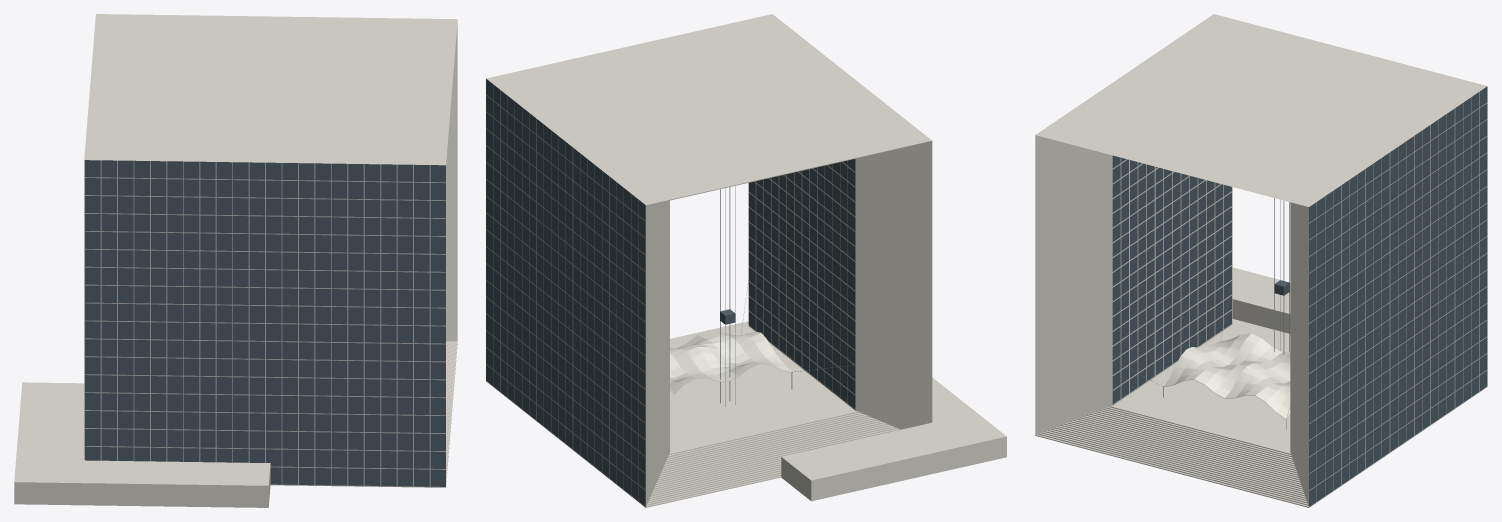
Rendered from grande-arche-far.glb.
3 views of the same model, side by side, from view 1: azimuth 30°, elevation 25°; view 2: azimuth 150°, elevation 25°; view 3: azimuth 270°, elevation 25° (orthographic). The views are drawn at different scales.
Parts seen in each view (by area): view 1: grande-arche-0-glass, grande-arche-0-stone, grande-arche-0-frame; view 2: grande-arche-0-stone, grande-arche-0-glass, grande-arche-0-frame, grande-arche-0-cloud, grande-arche-0-steel; view 3: grande-arche-0-stone, grande-arche-0-glass, grande-arche-0-frame, grande-arche-0-cloud, grande-arche-0-steel.
Part boxes in pixels (x1,y1,x2,y2): grande-arche-0-glass: (85,160,445,486); grande-arche-0-stone: (14,14,457,507); grande-arche-0-frame: (84,160,445,487); grande-arche-0-stone: (486,14,1006,507); grande-arche-0-glass: (486,79,855,506); grande-arche-0-frame: (486,84,645,507); grande-arche-0-cloud: (670,330,791,396); grande-arche-0-steel: (720,186,855,406); grande-arche-0-stone: (1035,14,1487,507); grande-arche-0-glass: (1112,86,1487,506); grande-arche-0-frame: (1309,86,1487,507); grande-arche-0-cloud: (1163,333,1290,419); grande-arche-0-steel: (1113,198,1290,429).
Size of the model in its own units: 178 by 110 by 150.
